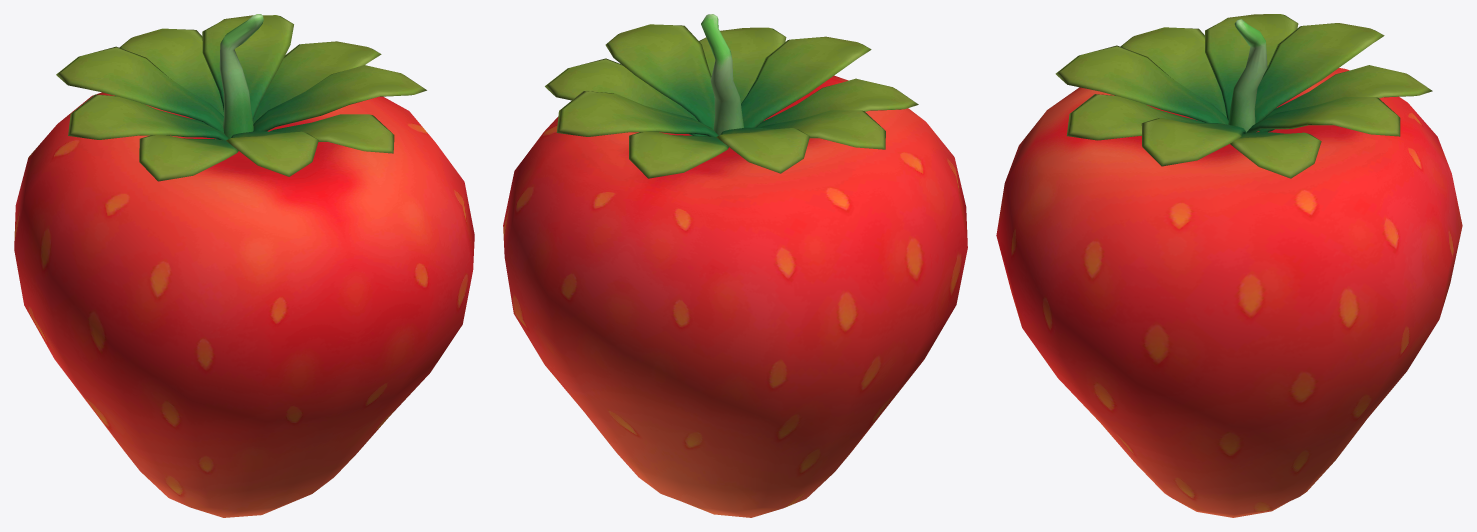
The model's file is StrawberryShort.fbx.
3 views of the same model, side by side, from view 1: azimuth 30°, elevation 25°; view 2: azimuth 150°, elevation 25°; view 3: azimuth 270°, elevation 25° (orthographic).
Visible parts, largest first — view 1: StrawberryShort; view 2: StrawberryShort; view 3: StrawberryShort.
Part boxes in pixels (x1,y1,x2,y2): StrawberryShort: (14,14,474,517); StrawberryShort: (503,14,967,517); StrawberryShort: (996,14,1462,517).
Size of the model in its own units: 74.16 by 88.1 by 75.26.
